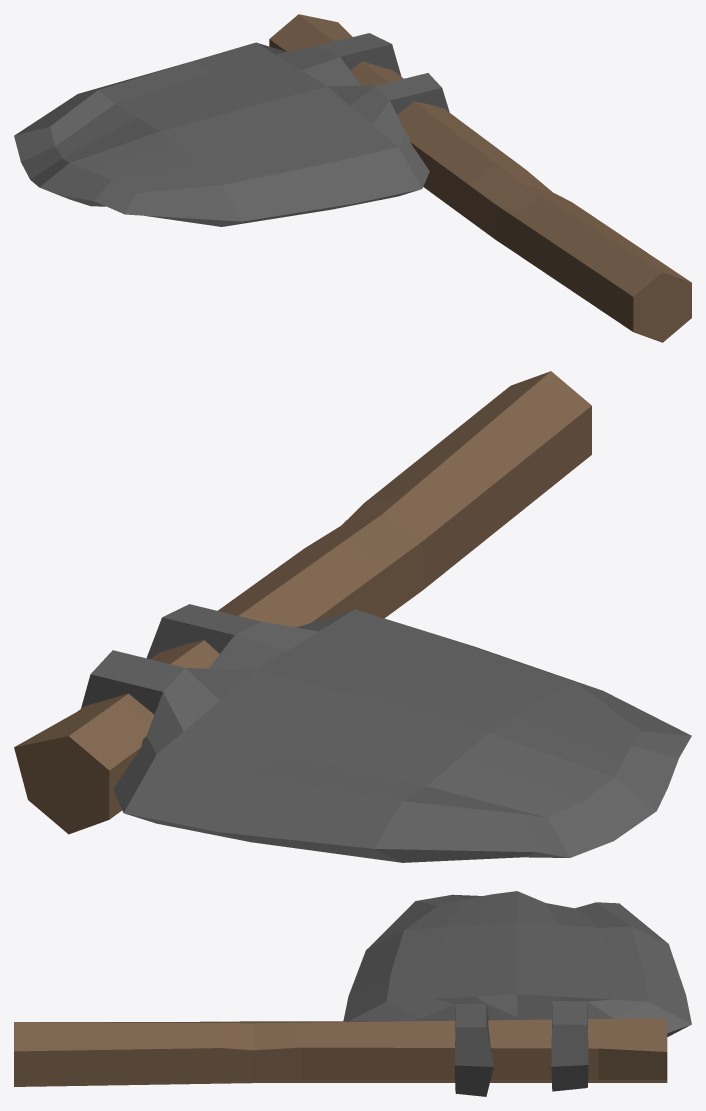
Rendered from hache pierre.fbx.
The picture shows the model from 3 angles, top to bottom: view 1: azimuth 30°, elevation 25°; view 2: azimuth 150°, elevation 25°; view 3: azimuth 270°, elevation 25°; orthographic projection. The views are drawn at different scales.
Visible parts, largest first — view 1: Cube, Cylinder; view 2: Cube, Cylinder; view 3: Cube, Cylinder.
Boxes of the visible parts, bbox=[...] form: Cube: bbox=[14, 33, 449, 226]; Cylinder: bbox=[269, 14, 691, 342]; Cube: bbox=[81, 604, 691, 862]; Cylinder: bbox=[14, 371, 591, 834]; Cube: bbox=[343, 891, 691, 1096]; Cylinder: bbox=[14, 1018, 667, 1086].
Bounding box in the file's own units: 317 × 62.57 × 529.
